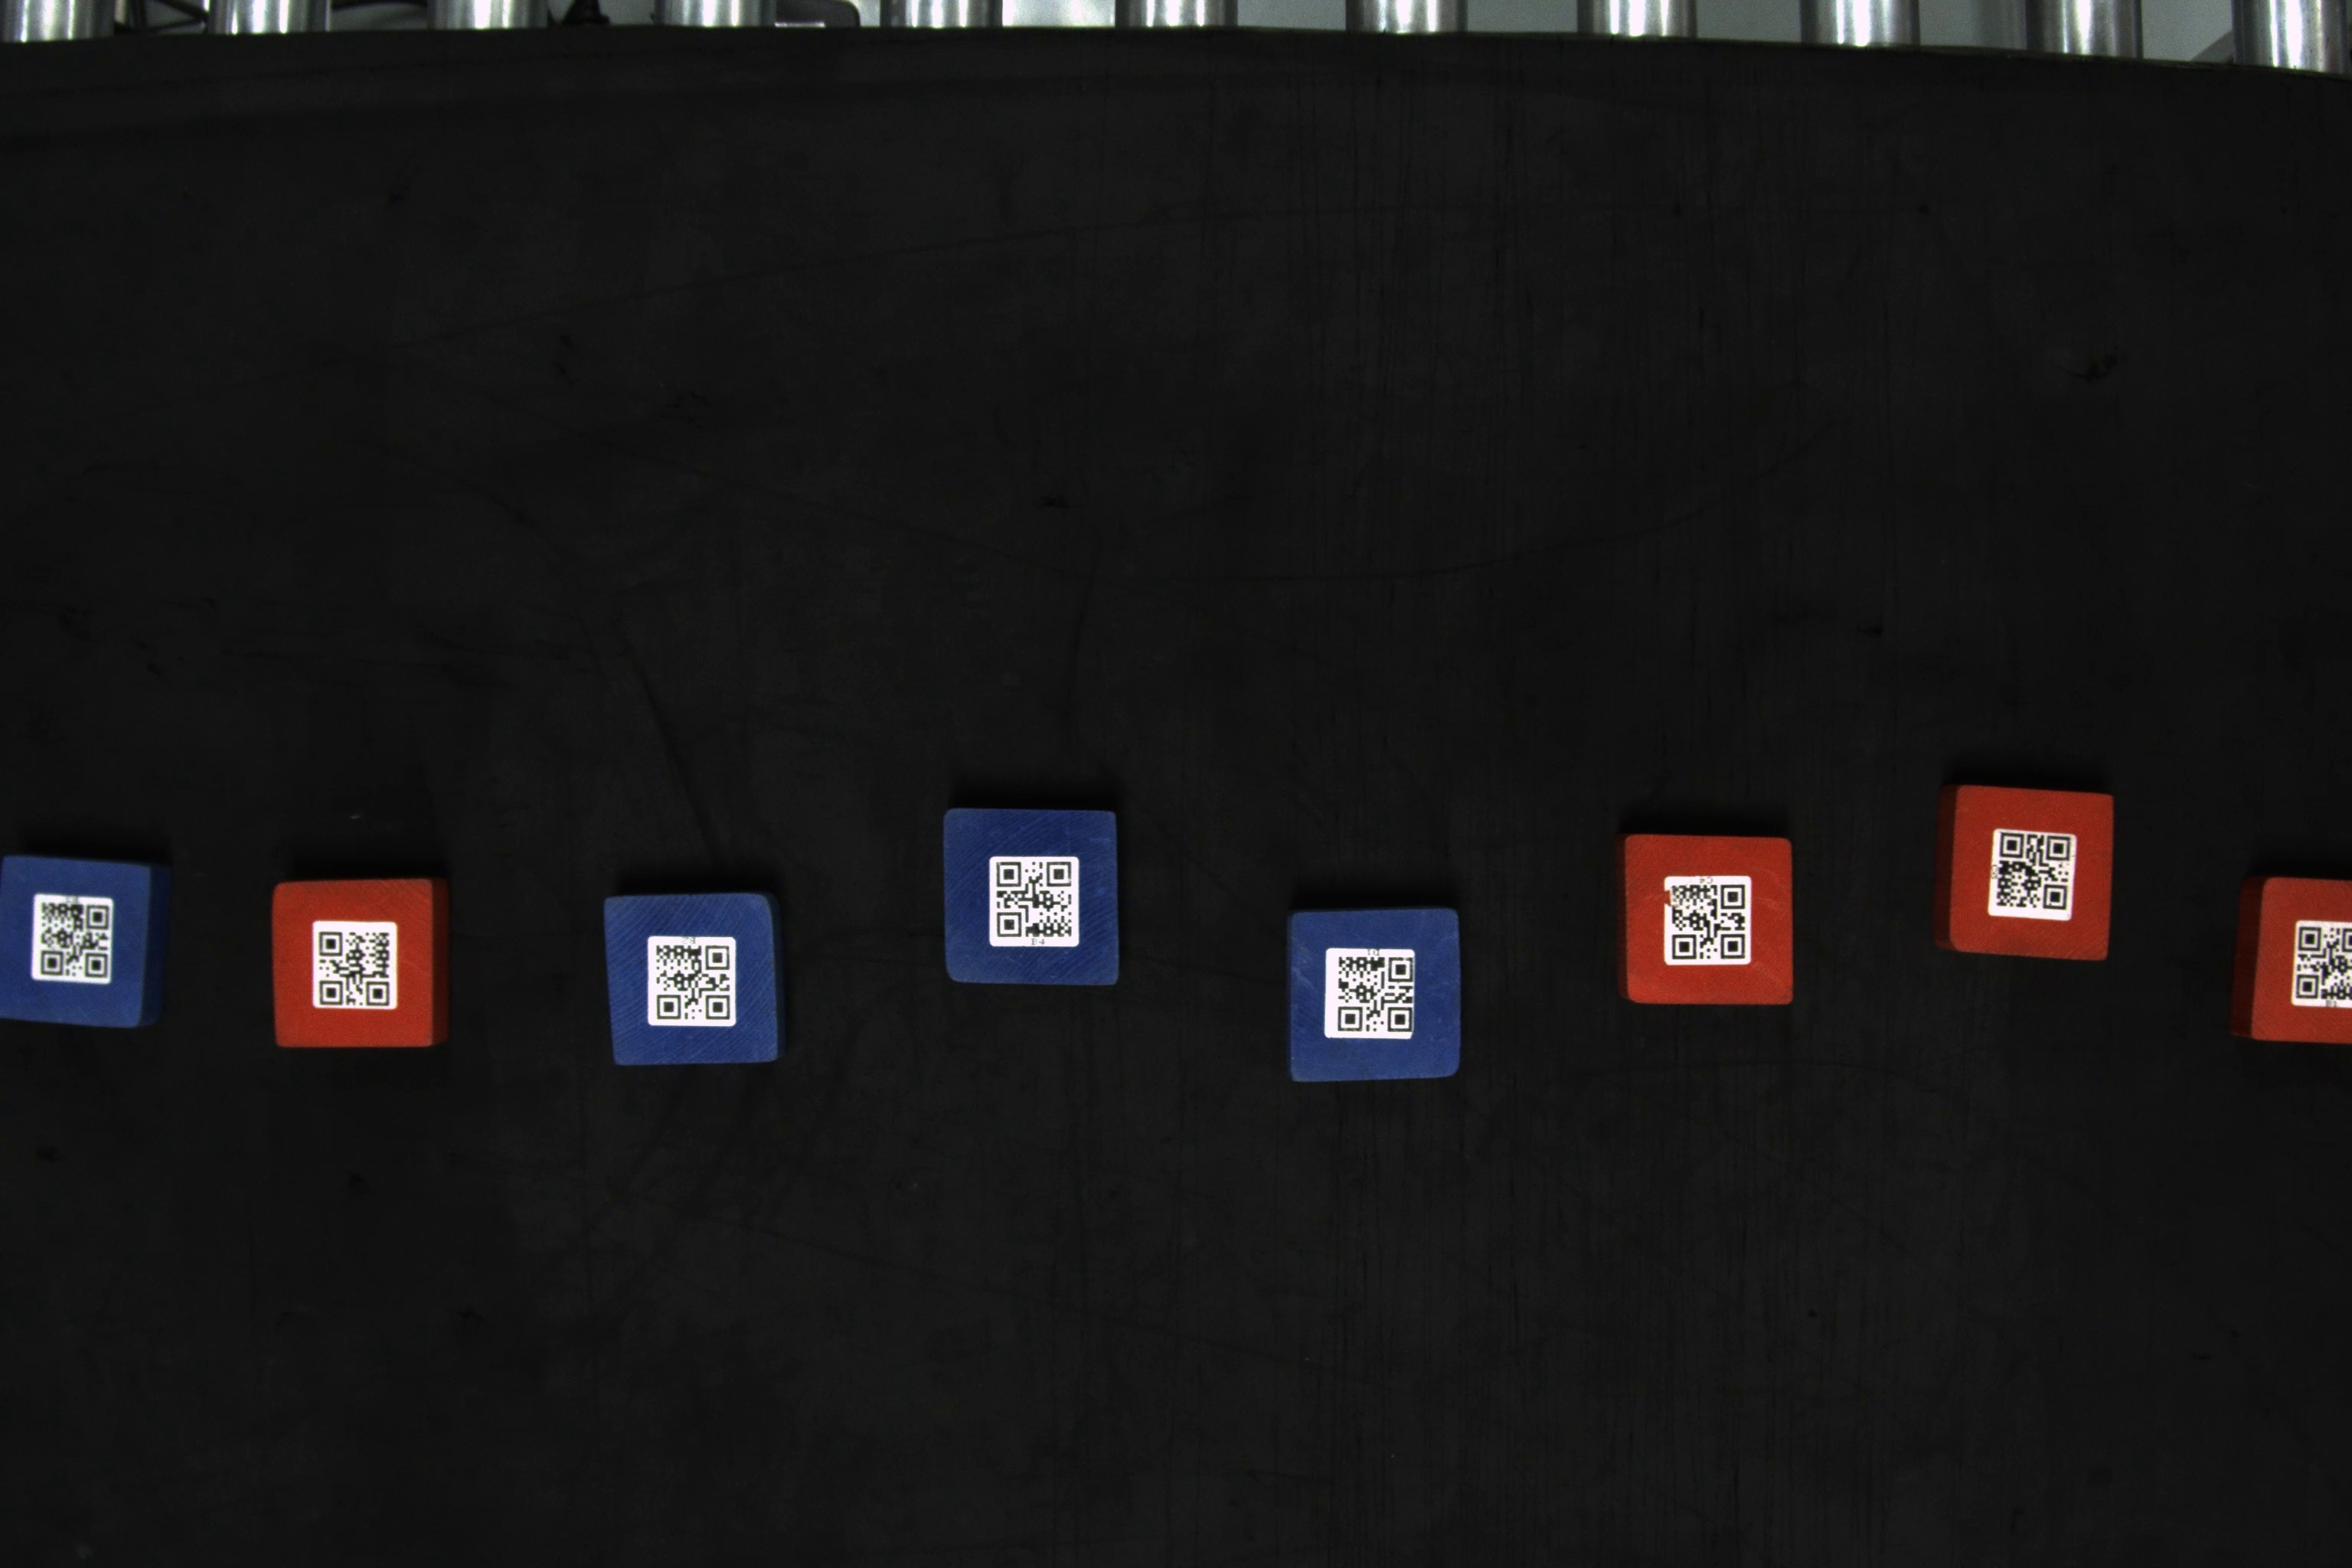wood: (1928, 772, 2121, 966), (938, 803, 1127, 996), (1279, 906, 1472, 1087), (1613, 831, 1799, 1017), (266, 875, 455, 1057), (600, 891, 789, 1073), (2, 845, 177, 1034), (2235, 864, 2352, 1053)
